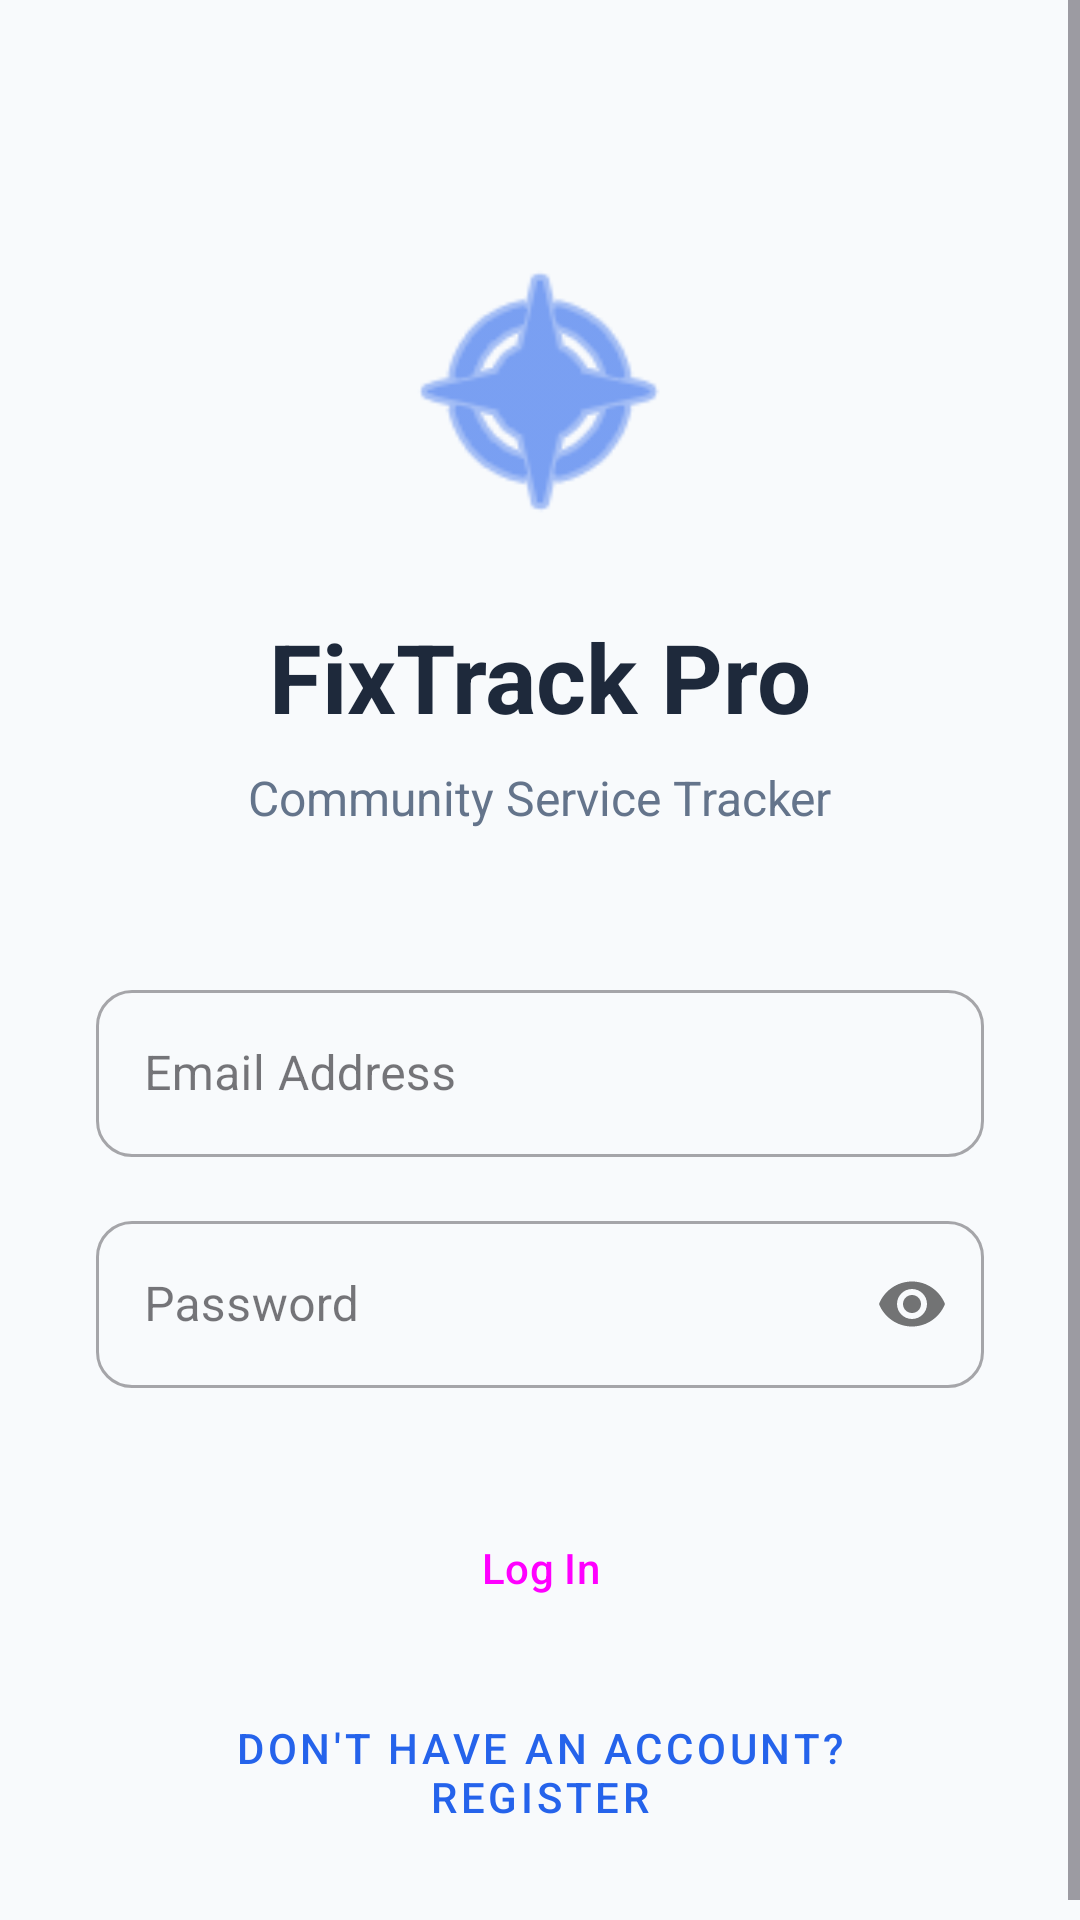

Screen size 1080*1920. Icon name, then its box in pixels as bbox=(x1, y1, x2, y2):
compass: bbox=(420, 273, 658, 510)
